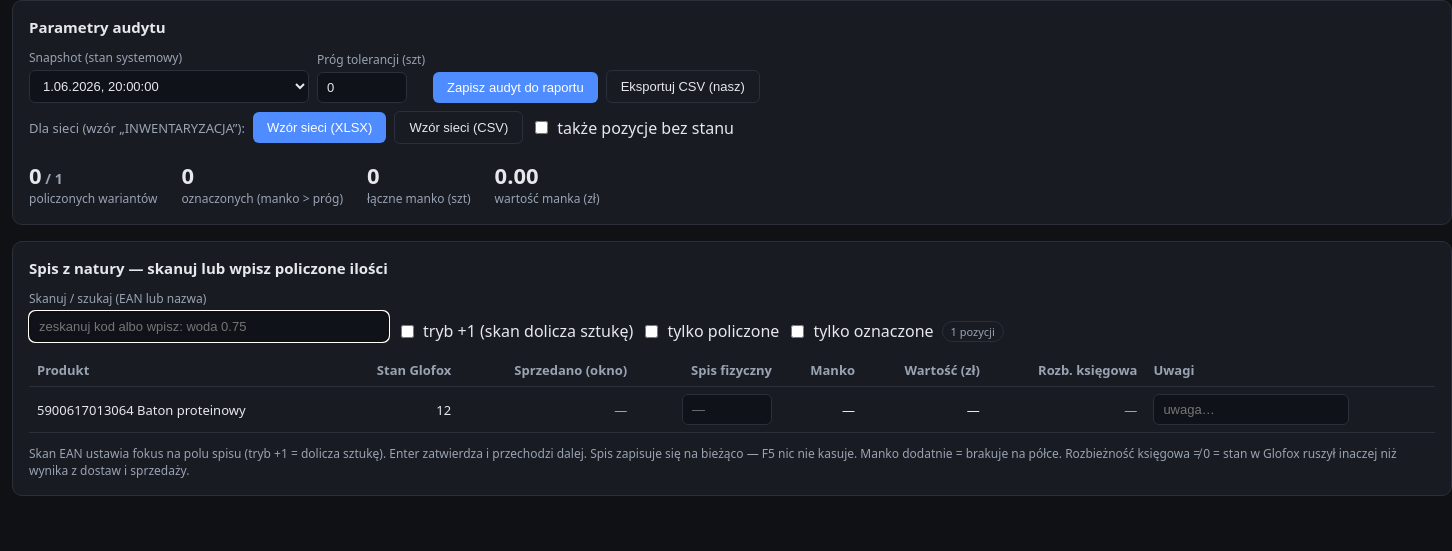
it: AuditView — uwagi do pozycji › zapisuje uwagę z wiersza spisu do ledgera
Step 1. Type "stłuczka" into the field with placeholder "uwaga…" → (1251, 410), box [1153, 394, 1349, 425]
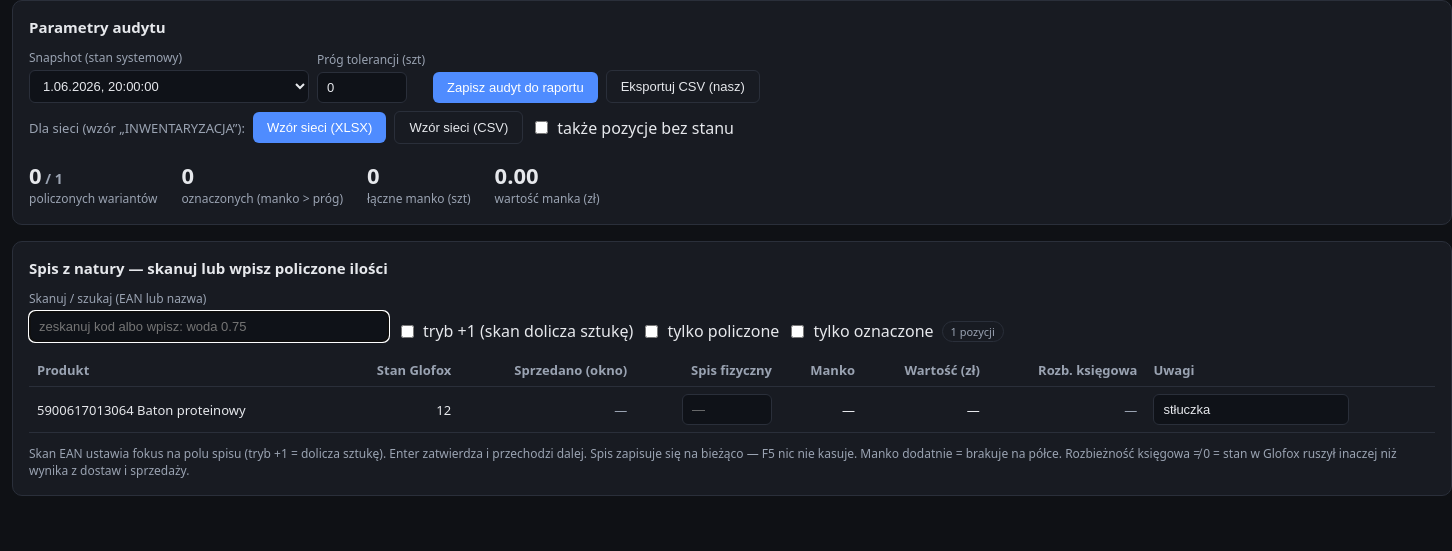
Step 2. Leave the field with placeholder "uwaga…", box [1153, 394, 1349, 425]
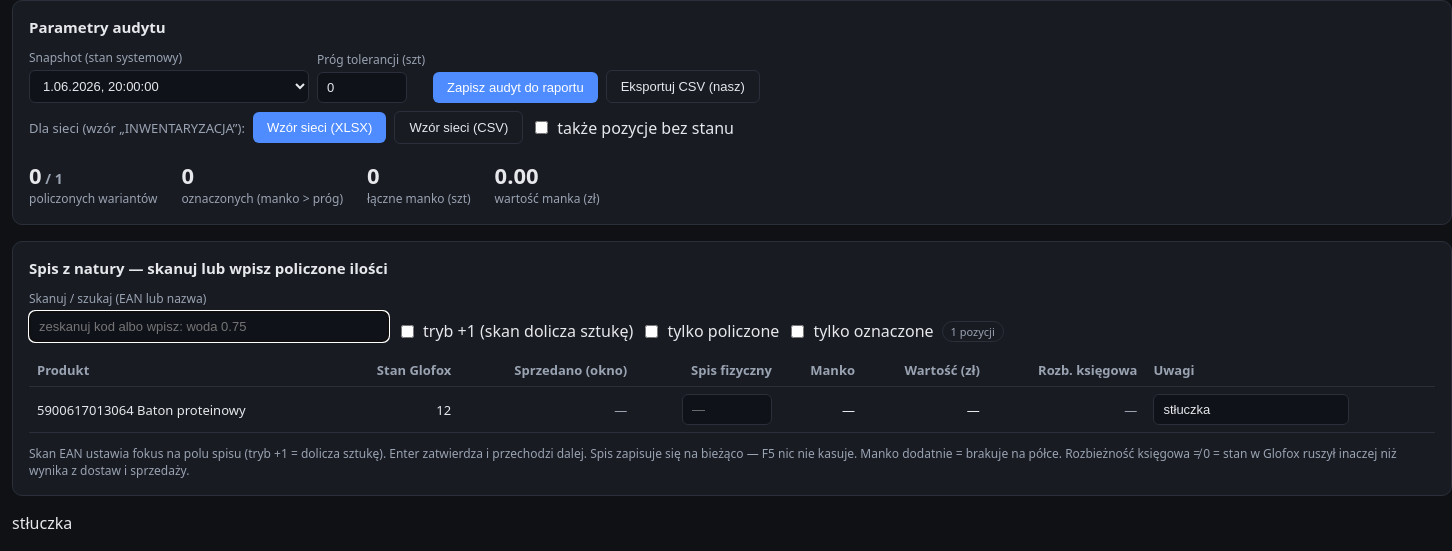
Check: the text with test id "note" reads "stłuczka", box [12, 512, 72, 534]
